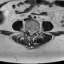CCS_normal: (30, 28, 32, 38)
LFS_normal: (34, 28, 36, 34)
LLS_normal: (32, 28, 34, 35)
RFS_normal: (26, 27, 28, 34)
RLS_normal: (28, 28, 30, 36)
